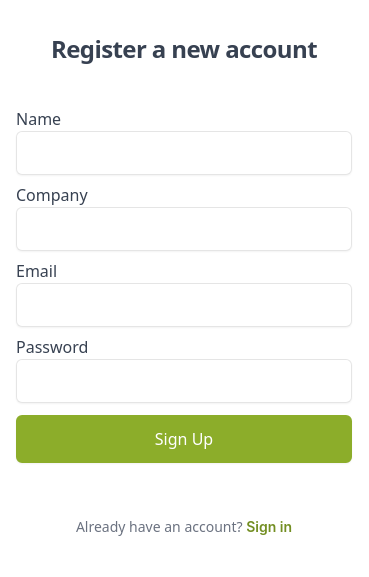
Signup Component › shows validation errors on empty submission
The image size is (369, 577).
Click the button "Sign Up" at (184, 439), box x1=16 y1=415 x2=352 y2=463
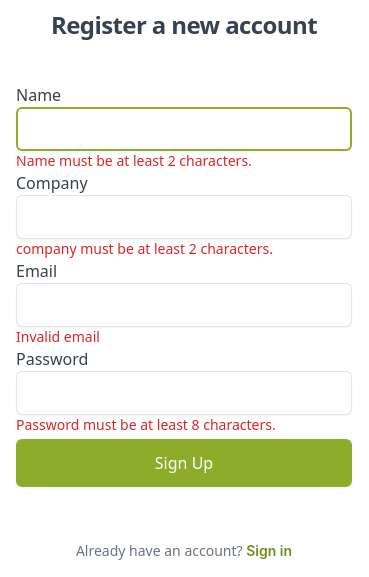
Expected: the text "company must be at least 2 characters." is shown, x1=16 y1=239 x2=273 y2=258
Expected: the text "Invalid email" is shown, x1=16 y1=327 x2=100 y2=346
Expected: the text "Password must be at least 8 characters." is shown, x1=16 y1=415 x2=276 y2=434
